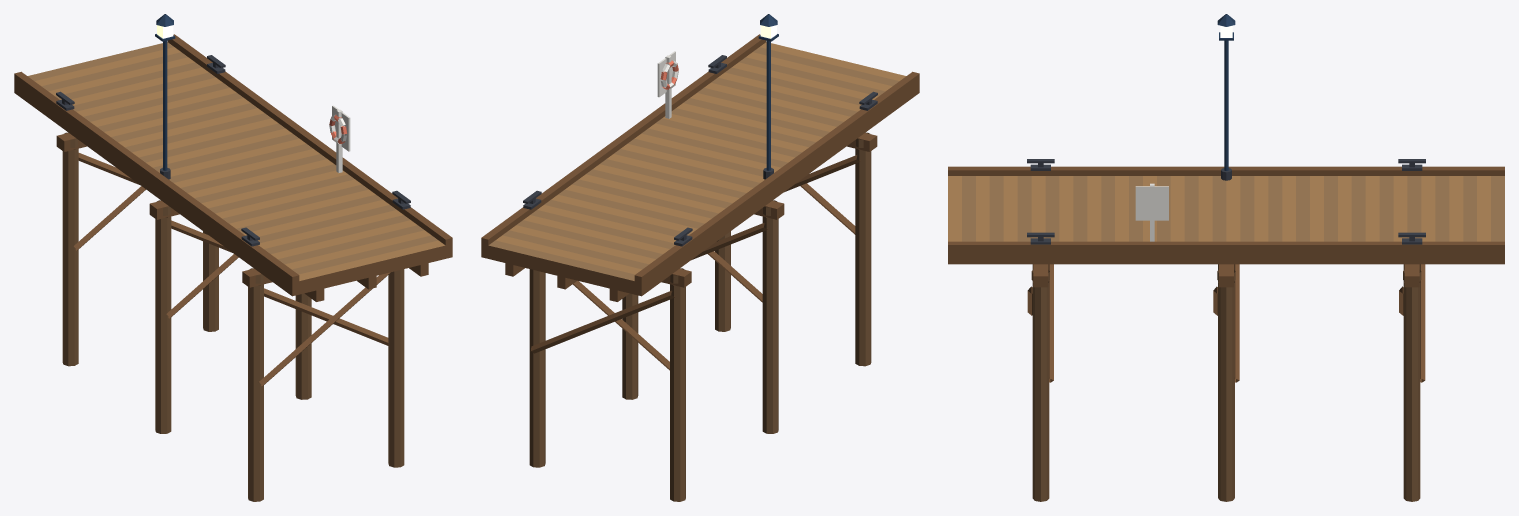
Rendered from pier_straight.glb.
3 views of the same model, side by side, from view 1: azimuth 30°, elevation 25°; view 2: azimuth 150°, elevation 25°; view 3: azimuth 270°, elevation 25° (orthographic).
Parts seen in each view (by area): view 1: Building, Building_Detail; view 2: Building, Building_Detail; view 3: Building, Building_Detail.
Boxes of the visible parts, x1,y1,x2,y2 form: Building: (14, 34, 452, 501); Building_Detail: (56, 14, 410, 246); Building: (481, 34, 919, 501); Building_Detail: (523, 14, 877, 246); Building: (948, 166, 1504, 501); Building_Detail: (1027, 14, 1425, 244).
Size of the model in its own units: 4 by 9.9 by 12.
